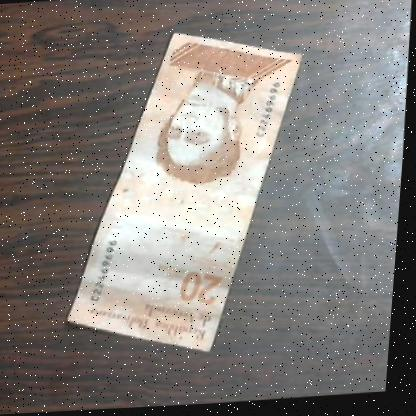twenty-front-vef: (63, 25, 310, 363)
